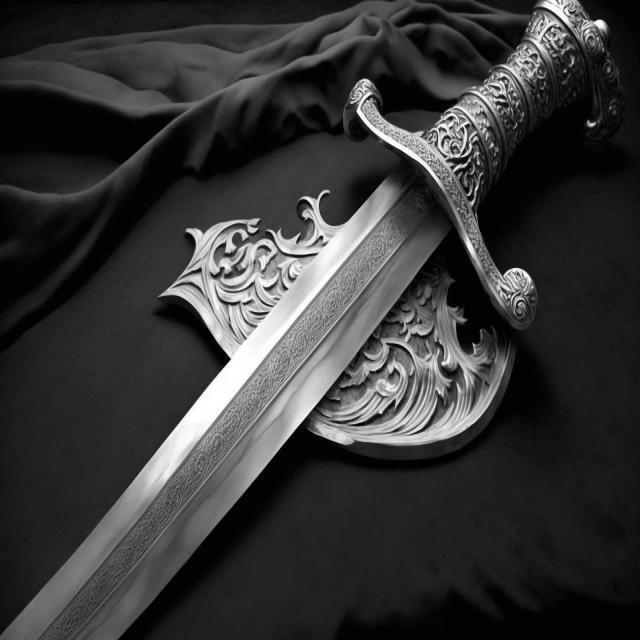sword: (1, 2, 627, 640)
